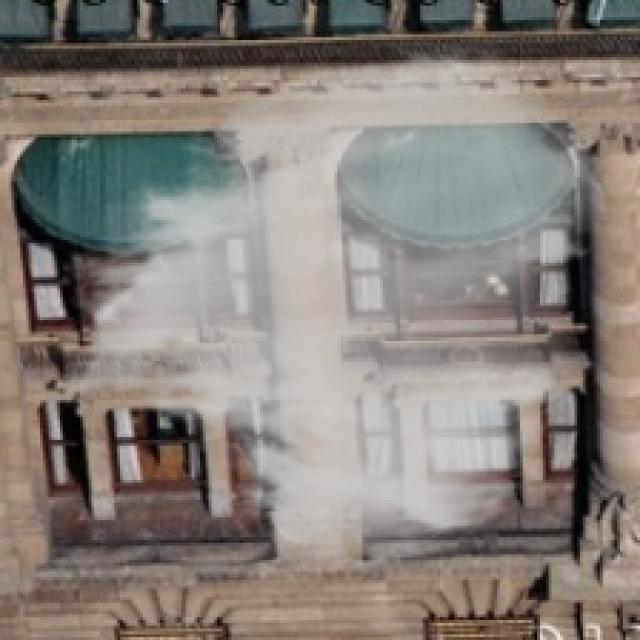Smoke: (51, 39, 612, 572)
